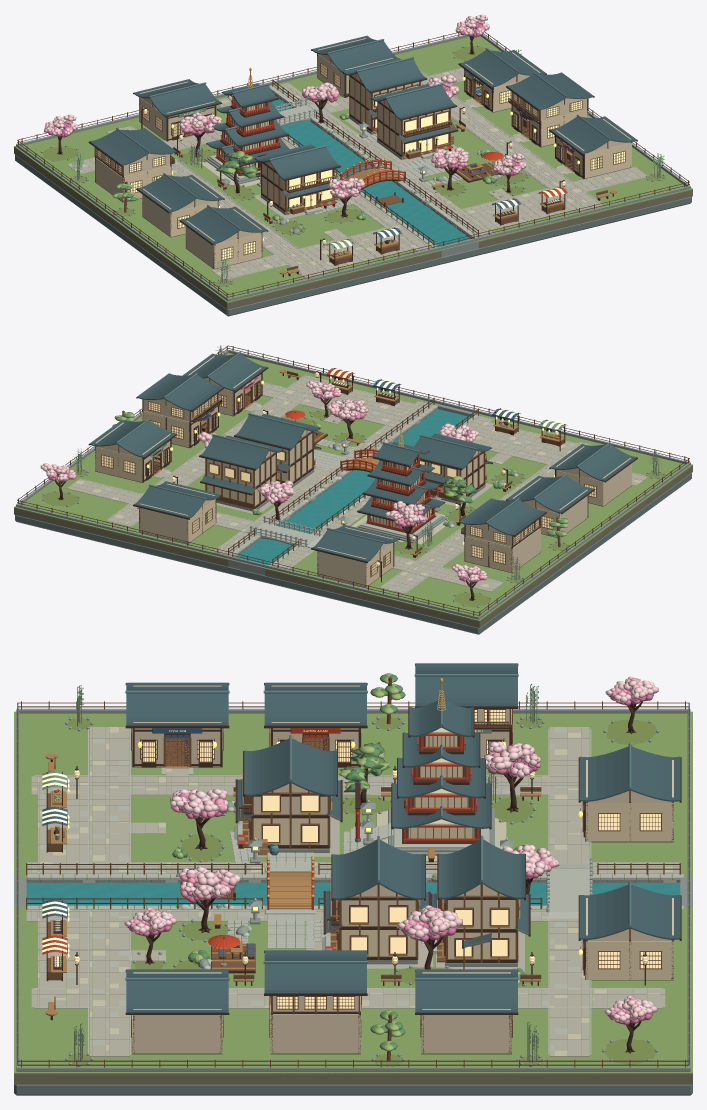
The model's file is kyoto_city_lod1.glb.
The picture shows the model from 3 angles, top to bottom: view 1: azimuth 30°, elevation 25°; view 2: azimuth 150°, elevation 25°; view 3: azimuth 270°, elevation 25°; orthographic projection. The views are drawn at different scales.
Parts seen in each view (by area): view 1: SM_City_Ground_grass.001, SM_City_Street_paving.001, SM_City_Ground_stone_dark.001, SM_City_Ground_soil.001, SM_City_Ground_stone.001, SM_City_Ground_water.001, SM_City_Street_stone_light.001, SM_City_Street_wood_dark.001, SM_Nature_Trees_sakura_canopy_vertex.001, SM_Pagoda_roof.001, SM_Architecture_TeaHouse_roof.001, SM_Architecture_Merchant_roof.001 (+52 smaller); view 2: SM_City_Ground_grass.001, SM_City_Street_paving.001, SM_City_Ground_stone.001, SM_City_Ground_stone_dark.001, SM_City_Ground_soil.001, SM_City_Ground_water.001, SM_City_Street_stone_light.001, SM_City_Street_wood_dark.001, SM_Nature_Trees_sakura_canopy_vertex.001, SM_Pagoda_roof.001, SM_Architecture_Inn_roof.001, SM_Venue_izakaya_tomo_roof.001 (+48 smaller); view 3: SM_City_Ground_grass.001, SM_City_Street_paving.001, SM_City_Ground_stone.001, SM_City_Street_stone_light.001, SM_City_Ground_stone_dark.001, SM_City_Ground_soil.001, SM_Nature_Trees_sakura_canopy_vertex.001, SM_City_Street_wood_dark.001, SM_Pagoda_roof.001, SM_City_Ground_water.001, SM_Architecture_Merchant_roof.001, SM_Architecture_TeaHouse_roof.001 (+67 smaller).
Boxes of the visible parts, bbox=[...] form: SM_City_Ground_grass.001: bbox=[14, 36, 692, 303]; SM_City_Street_paving.001: bbox=[67, 68, 647, 279]; SM_City_Ground_stone_dark.001: bbox=[15, 154, 691, 316]; SM_City_Ground_soil.001: bbox=[14, 147, 692, 309]; SM_City_Ground_stone.001: bbox=[16, 34, 690, 301]; SM_City_Ground_water.001: bbox=[272, 96, 470, 246]; SM_City_Street_stone_light.001: bbox=[69, 67, 646, 279]; SM_City_Street_wood_dark.001: bbox=[17, 28, 689, 297]; SM_Nature_Trees_sakura_canopy_vertex.001: bbox=[179, 75, 468, 199]; SM_Pagoda_roof.001: bbox=[207, 83, 289, 165]; SM_Architecture_TeaHouse_roof.001: bbox=[371, 84, 456, 142]; SM_Architecture_Merchant_roof.001: bbox=[255, 144, 340, 197]; SM_City_Ground_grass.001: bbox=[14, 352, 692, 621]; SM_City_Street_paving.001: bbox=[67, 375, 648, 593]; SM_City_Ground_stone.001: bbox=[16, 349, 690, 619]; SM_City_Ground_stone_dark.001: bbox=[15, 473, 691, 634]; SM_City_Ground_soil.001: bbox=[14, 465, 692, 627]; SM_City_Ground_water.001: bbox=[236, 409, 470, 565]; SM_City_Street_stone_light.001: bbox=[69, 375, 645, 593]; SM_City_Street_wood_dark.001: bbox=[17, 345, 689, 615]; SM_Nature_Trees_sakura_canopy_vertex.001: bbox=[197, 399, 478, 526]; SM_Pagoda_roof.001: bbox=[357, 441, 444, 524]; SM_Architecture_Inn_roof.001: bbox=[199, 435, 283, 493]; SM_Venue_izakaya_tomo_roof.001: bbox=[137, 373, 223, 410]; SM_City_Ground_grass.001: bbox=[14, 711, 692, 1074]; SM_City_Street_paving.001: bbox=[26, 727, 680, 1056]; SM_City_Ground_stone.001: bbox=[14, 708, 692, 1071]; SM_City_Street_stone_light.001: bbox=[31, 727, 665, 1056]; SM_City_Ground_stone_dark.001: bbox=[14, 1084, 692, 1095]; SM_City_Ground_soil.001: bbox=[14, 878, 692, 1084]; SM_Nature_Trees_sakura_canopy_vertex.001: bbox=[169, 741, 559, 941]; SM_City_Street_wood_dark.001: bbox=[17, 702, 689, 1065]; SM_Pagoda_roof.001: bbox=[392, 699, 490, 828]; SM_City_Ground_water.001: bbox=[26, 882, 680, 906]; SM_Architecture_Merchant_roof.001: bbox=[237, 738, 340, 821]; SM_Architecture_TeaHouse_roof.001: bbox=[325, 839, 428, 932].
Bounding box in the file's own units: 68 × 15.77 × 54.
